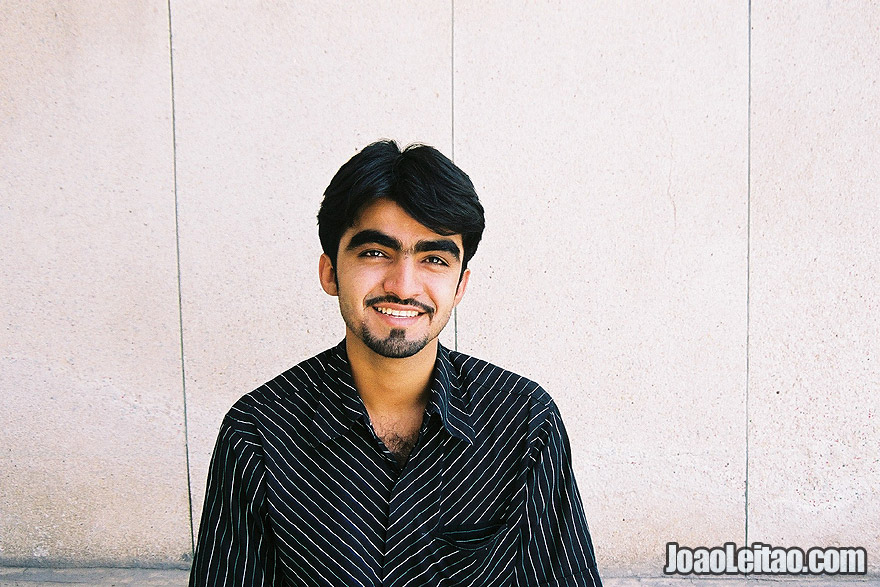person: (314, 137, 485, 360)
